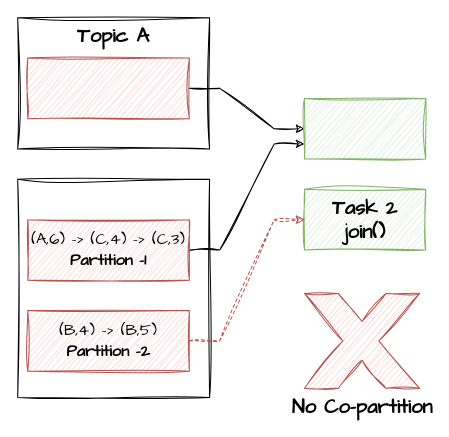
The diagram is 449 pixels wide and 437 high, and some of its shapes have lost their labels. The box of each missing label's shape, as (x1, y1, x2, y2) in pixels:
(A,1) -> (C,2) -> (A,2) Partition -1: (27, 57, 189, 119)
Task 1 join(): (304, 97, 426, 159)
Topic B: (17, 178, 210, 397)
